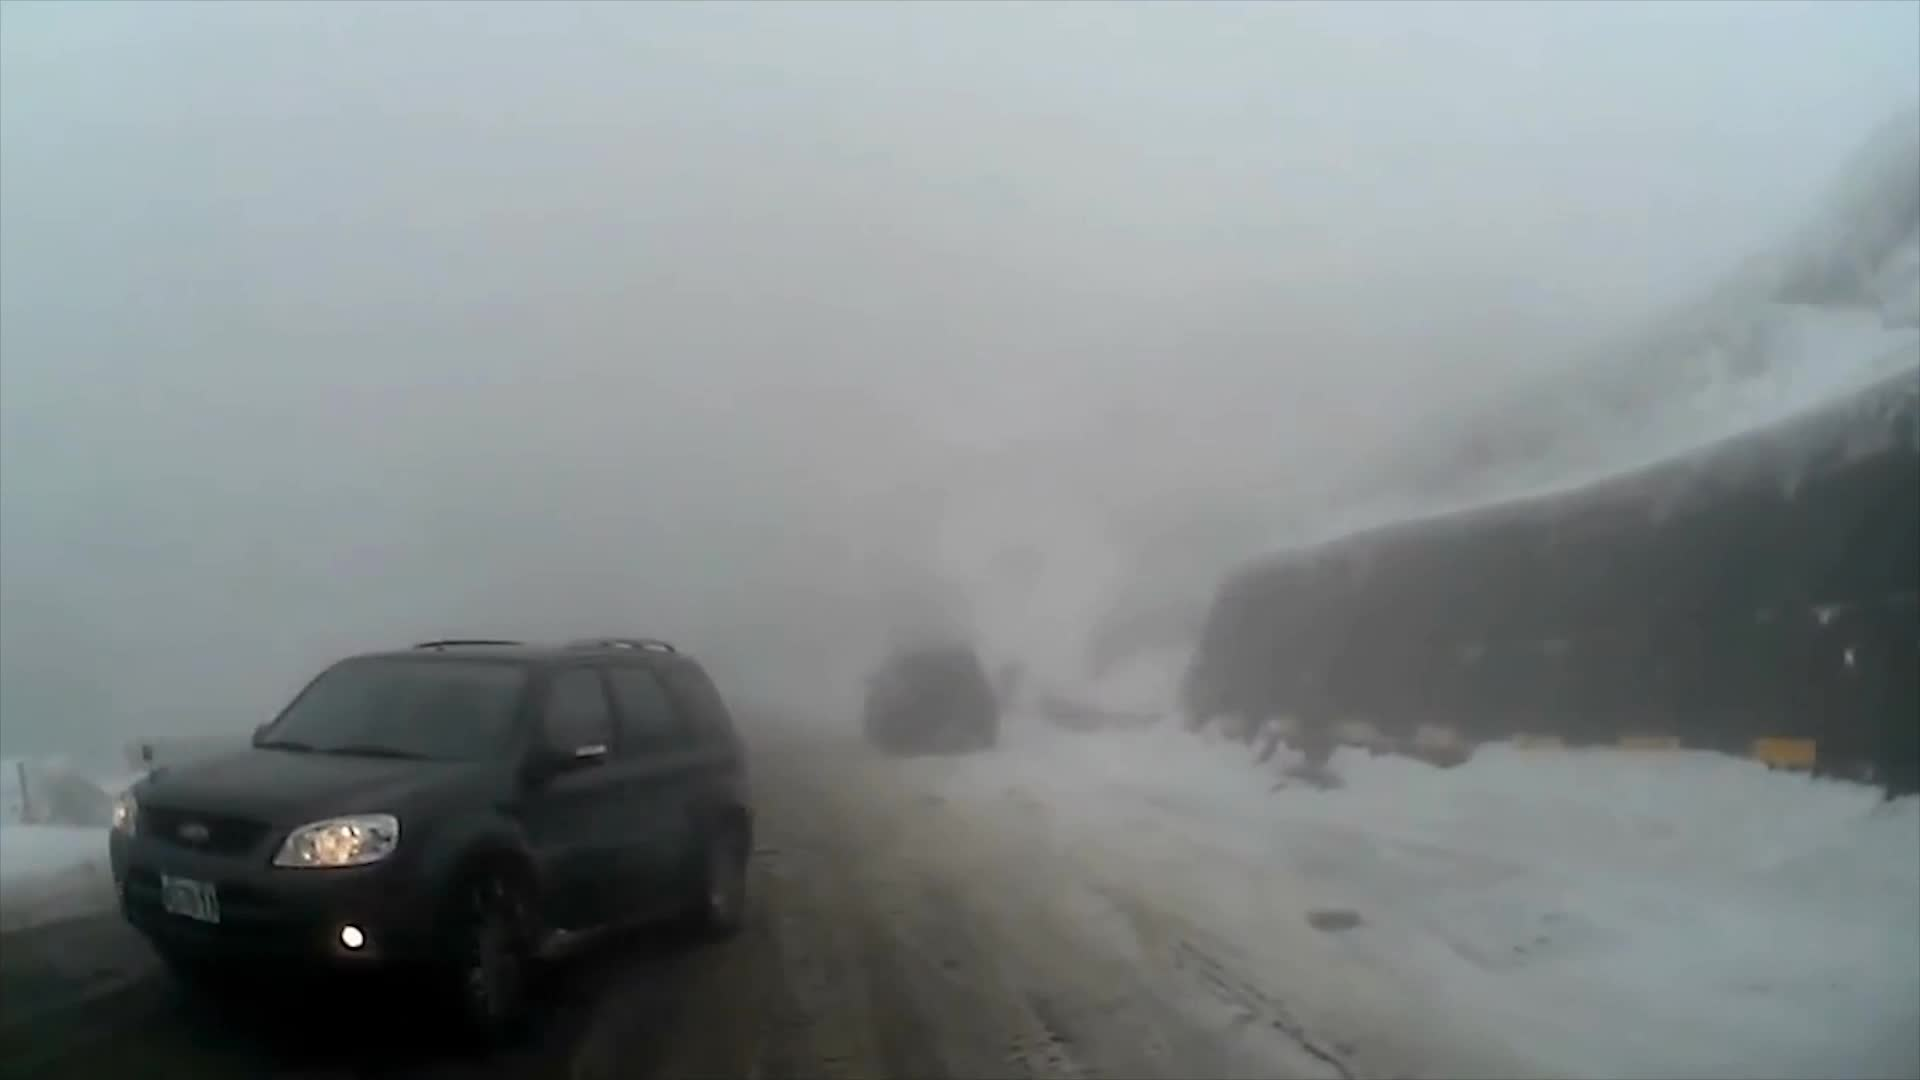vehicle: (105, 632, 757, 1039), (858, 640, 1000, 760)
